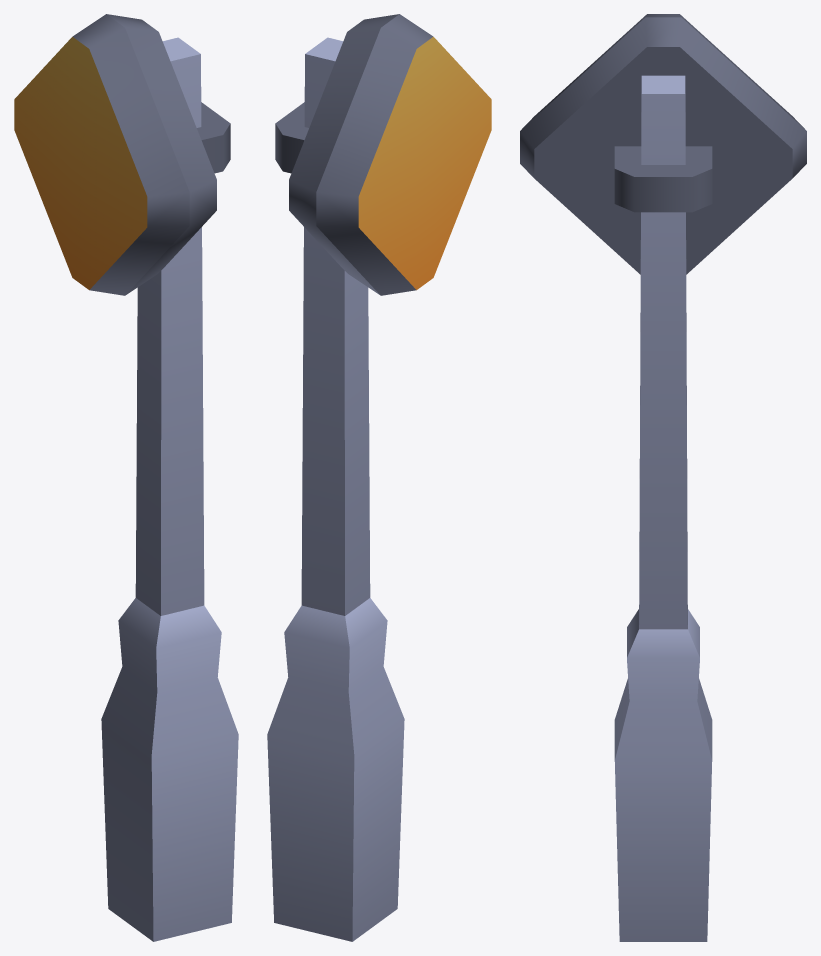
Rendered from road-sign-warning.glb.
The picture shows the model from 3 angles, left to right: view 1: azimuth 30°, elevation 25°; view 2: azimuth 150°, elevation 25°; view 3: azimuth 270°, elevation 25°; orthographic projection. The views are drawn at different scales.
Visible parts, largest first — view 1: road-sign-warning; view 2: road-sign-warning; view 3: road-sign-warning.
Part boxes in pixels (left/top/right/bottom): road-sign-warning: left=14, top=14, right=238, bottom=941; road-sign-warning: left=267, top=14, right=491, bottom=941; road-sign-warning: left=520, top=14, right=806, bottom=941.
Bounding box in the file's own units: 0.0773 × 0.4986 × 0.1472.
1 material, 1 textured.
